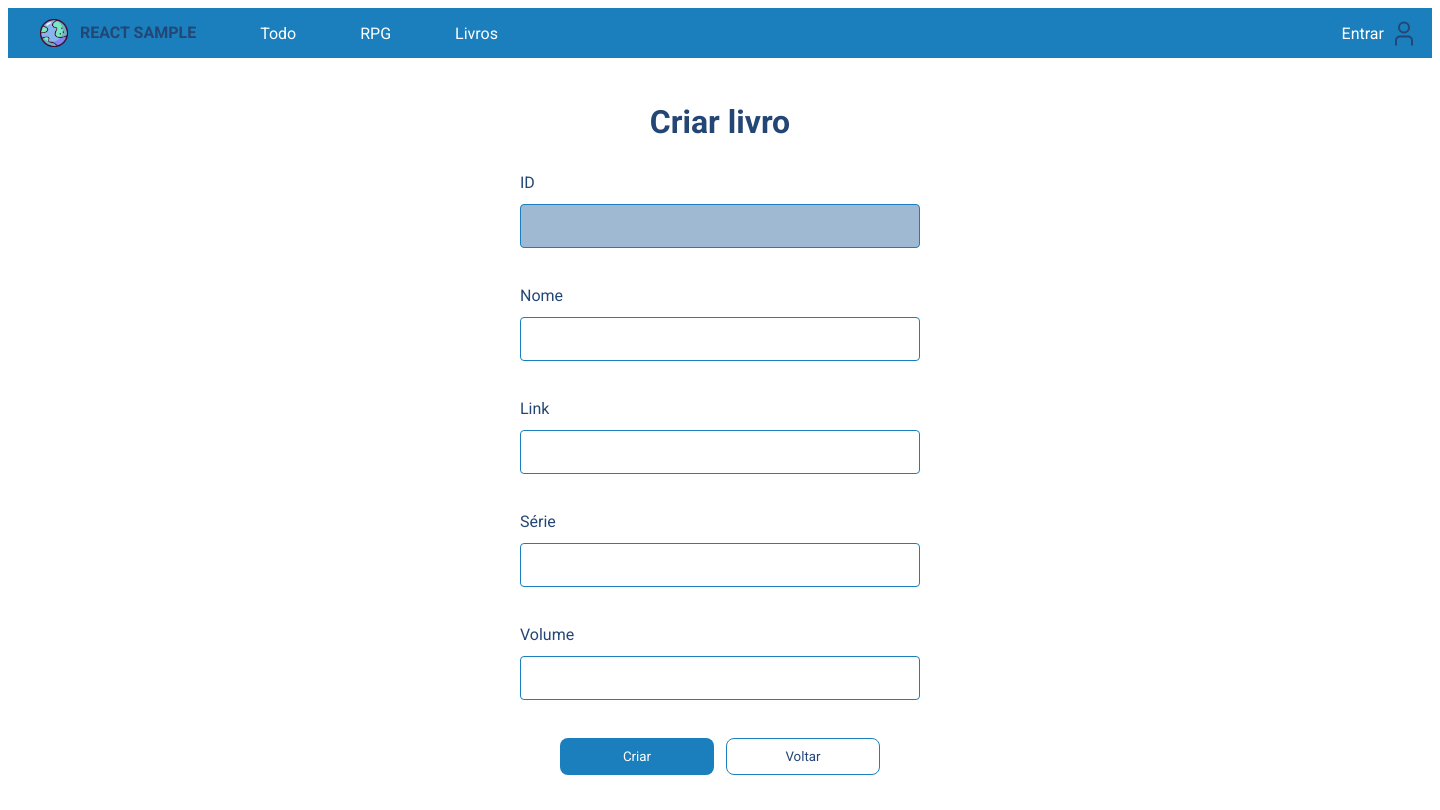
Scenario: DetailPage › deve exibir mensagens de erro ao tentar cadastrar com campos vazios
The image size is (1440, 810).
What coordinates should you click on to do the following:
click the button "Criar"
I would click on:
 (637, 756)
Its box is [560,738,714,775].
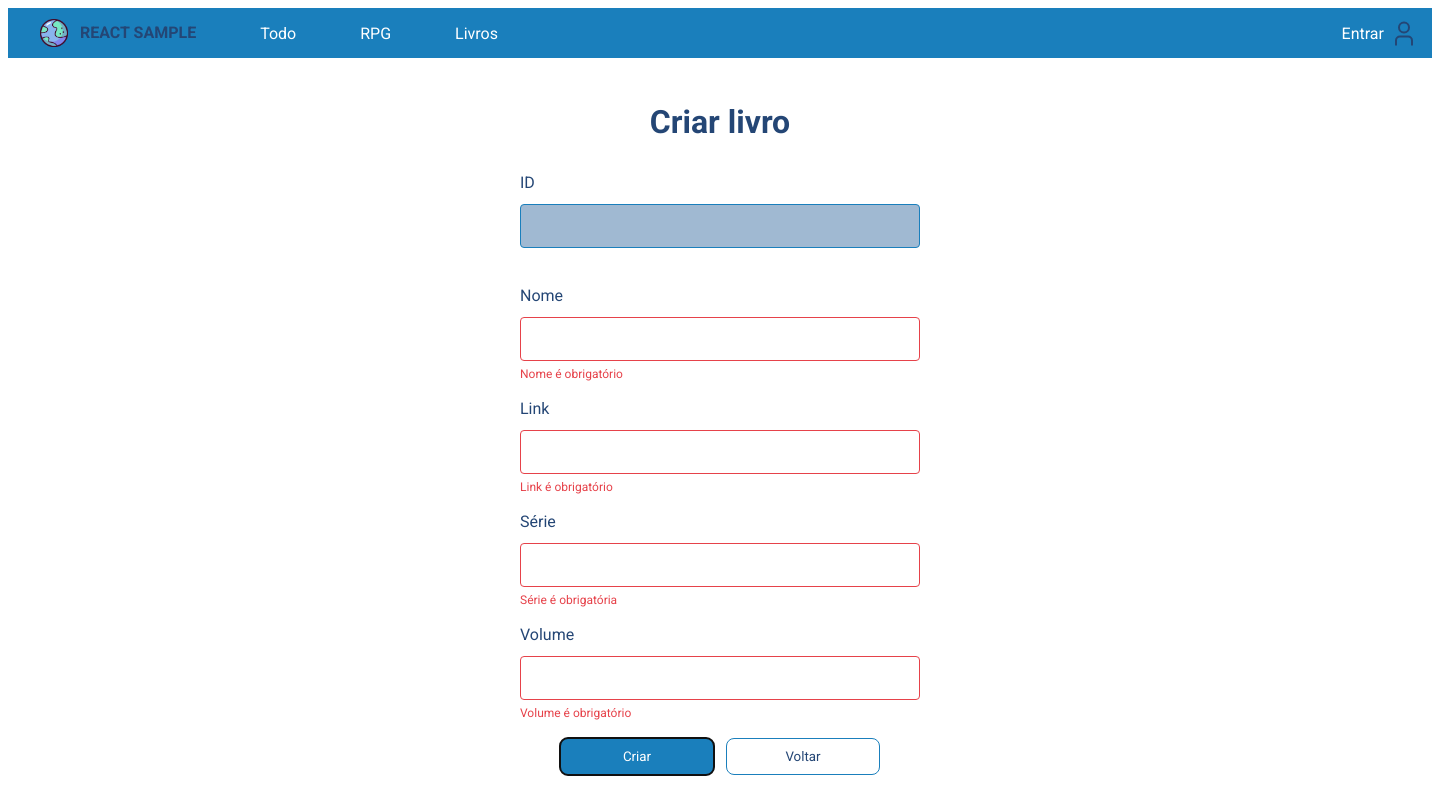
Expected: the text "Nome é obrigatório" is shown, [520,367,623,381]
Expected: the text "Link é obrigatório" is shown, [520,480,613,494]
Expected: the text "Série é obrigatória" is shown, [520,593,617,607]
